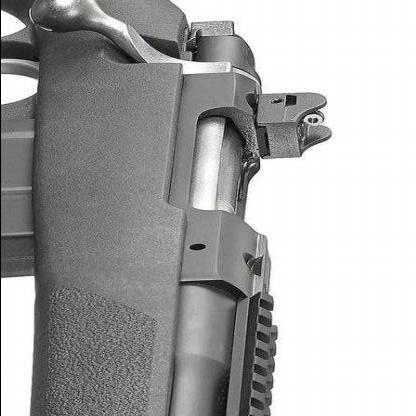rifle: (0, 0, 342, 415)
